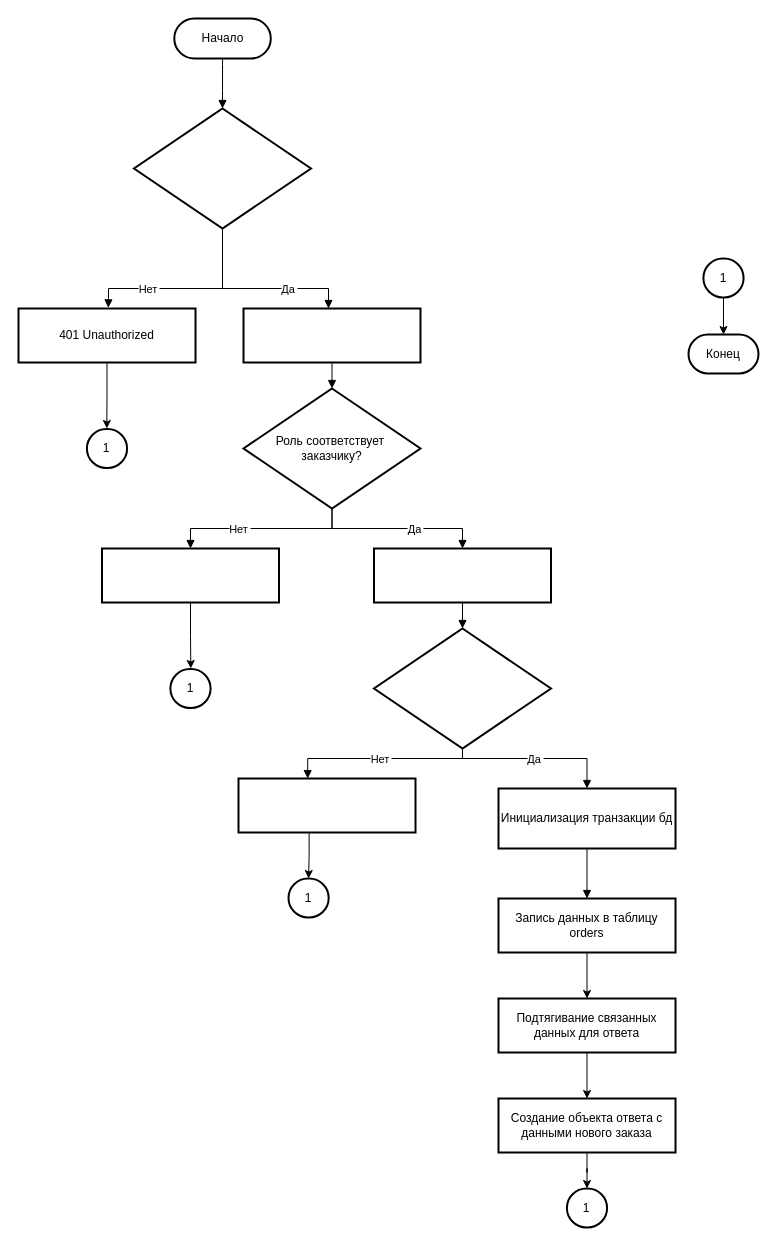
This 776x1245 diagram has some shape labels left out. The centre of each missing label's shape, as x and y in pixels:
"403: Недостаточно полномочий" goes at point (190, 575).
"Данные корректны?" goes at point (462, 688).
"Ошибка 400: Неверные данные" goes at point (326, 805).
"Получение роли пользователя" goes at point (331, 335).
"Пользователь авторизован?" goes at point (222, 168).
"Проверка входных данных: title, description, budget, deadline, categoryid" goes at point (462, 575).
